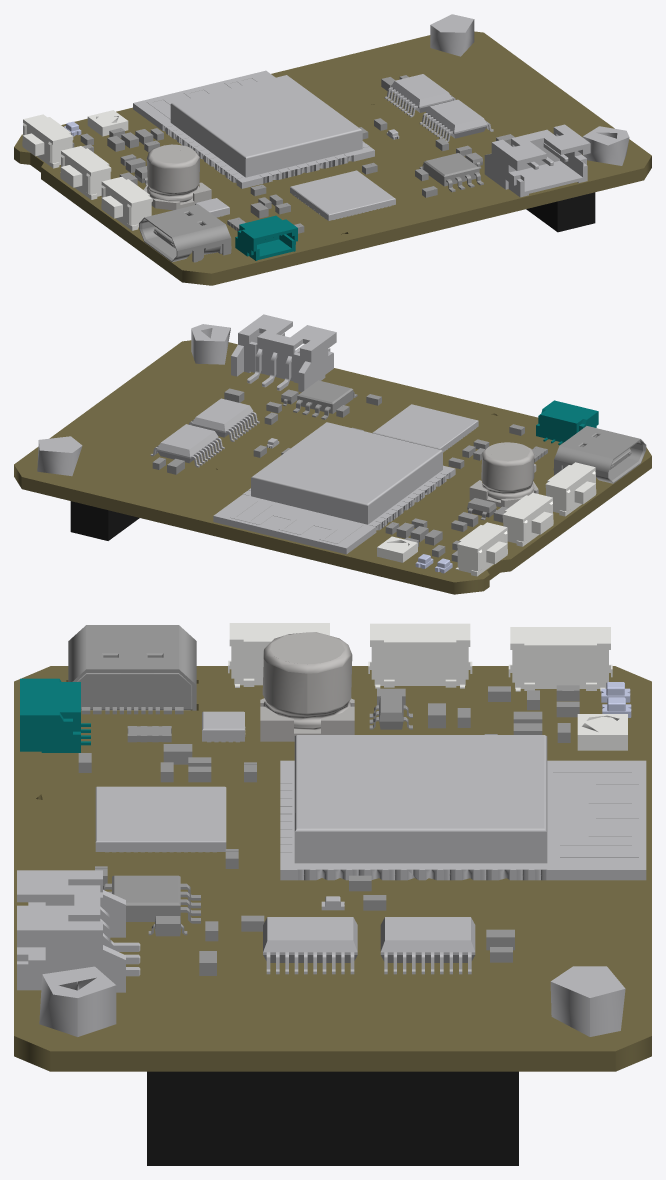
Rendered from ada-4745.glb.
3 renders of one model, top to bottom at view 1: azimuth 30°, elevation 25°; view 2: azimuth 150°, elevation 25°; view 3: azimuth 270°, elevation 25°, orthographic. The views are drawn at different scales.
Visible parts, largest first — view 1: 0.16666666666666666_0.16666666666666666_0.08333333333333333_, 0.5833333333333334_0.5833333333333334_0.5833333333333334_0.8, 0.3333333333333333_0.3333333333333333_0.3333333333333333_0, 0.9166666666666666_0.9166666666666666_0.9166666666666666_0.8, 0.5_0.5_0.5_0.85, 0_0.25_0.25_0, 0_0_0_0; view 2: 0.16666666666666666_0.16666666666666666_0.08333333333333333_, 0.5833333333333334_0.5833333333333334_0.5833333333333334_0.8, 0.3333333333333333_0.3333333333333333_0.3333333333333333_0, 0.9166666666666666_0.9166666666666666_0.9166666666666666_0.8, 0.5_0.5_0.5_0.85, 0_0.25_0.25_0, 0_0_0_0; view 3: 0.16666666666666666_0.16666666666666666_0.08333333333333333_, 0.5833333333333334_0.5833333333333334_0.5833333333333334_0.8, 0_0_0_0, 0.3333333333333333_0.3333333333333333_0.3333333333333333_0, 0.9166666666666666_0.9166666666666666_0.9166666666666666_0.8, 0.5_0.5_0.5_0.85, 0_0.25_0.25_0, 0.5833333333333334_0.6666666666666666_0.8333333333333334_0.
Boxes of the visible parts, box(x1,y1,x2,y2) form: 0.16666666666666666_0.16666666666666666_0.08333333333333333_: box(14, 31, 651, 285); 0.5833333333333334_0.5833333333333334_0.5833333333333334_0.8: box(133, 14, 629, 220); 0.3333333333333333_0.3333333333333333_0.3333333333333333_0: box(72, 75, 514, 262); 0.9166666666666666_0.9166666666666666_0.9166666666666666_0.8: box(22, 110, 151, 230); 0.5_0.5_0.5_0.85: box(144, 144, 211, 210); 0_0.25_0.25_0: box(235, 215, 297, 260); 0_0_0_0: box(526, 192, 595, 232); 0.16666666666666666_0.16666666666666666_0.08333333333333333_: box(14, 340, 651, 594); 0.5833333333333334_0.5833333333333334_0.5833333333333334_0.8: box(37, 314, 536, 554); 0.3333333333333333_0.3333333333333333_0.3333333333333333_0: box(152, 380, 646, 562); 0.9166666666666666_0.9166666666666666_0.9166666666666666_0.8: box(377, 462, 596, 576); 0.5_0.5_0.5_0.85: box(469, 442, 538, 507); 0_0.25_0.25_0: box(536, 400, 598, 445); 0_0_0_0: box(70, 501, 139, 540); 0.16666666666666666_0.16666666666666666_0.08333333333333333_: box(14, 666, 651, 1071); 0.5833333333333334_0.5833333333333334_0.5833333333333334_0.8: box(17, 711, 646, 1036); 0_0_0_0: box(147, 1071, 518, 1165); 0.3333333333333333_0.3333333333333333_0.3333333333333333_0: box(68, 625, 579, 975); 0.9166666666666666_0.9166666666666666_0.9166666666666666_0.8: box(228, 623, 627, 750); 0.5_0.5_0.5_0.85: box(260, 632, 354, 741); 0_0.25_0.25_0: box(20, 678, 90, 752); 0.5833333333333334_0.6666666666666666_0.8333333333333334_0: box(601, 682, 631, 717).
Size of the model in its own units: 6.43 by 1.62 by 4.45.
